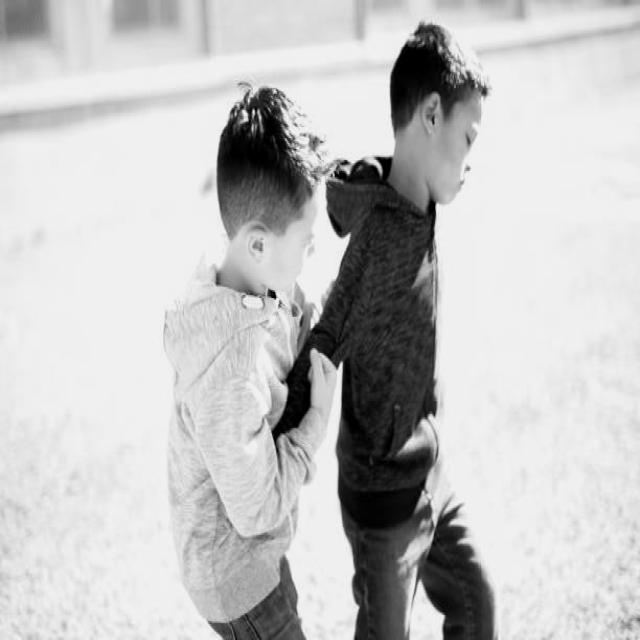fight: (165, 16, 494, 640)
